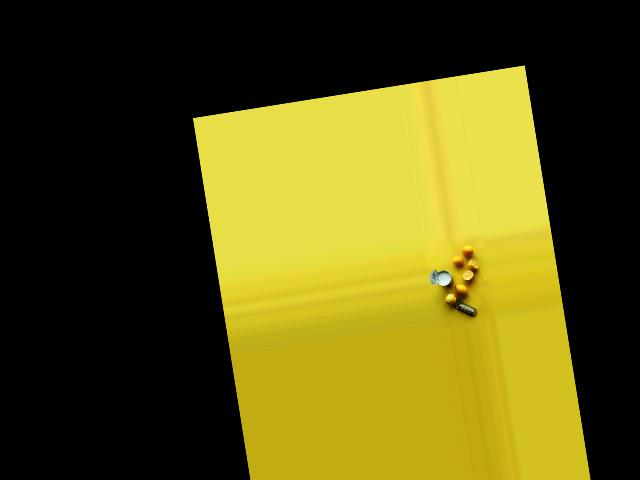lemon: (443, 290, 459, 304)
